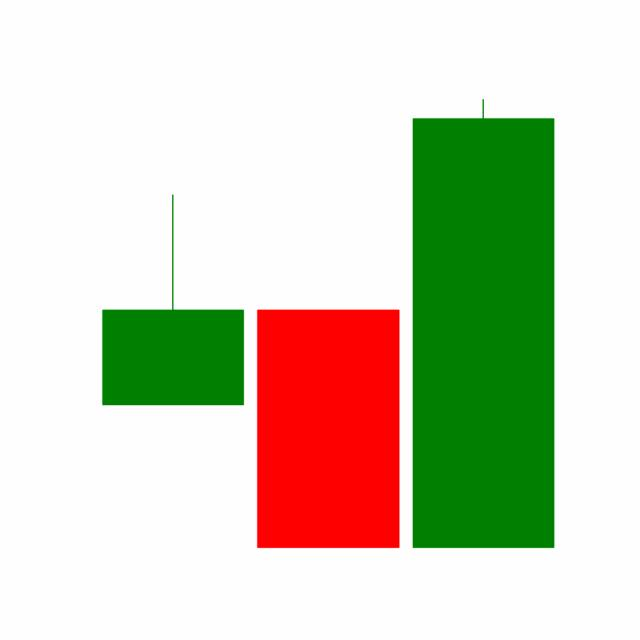Marubozu: (249, 306, 406, 550)
